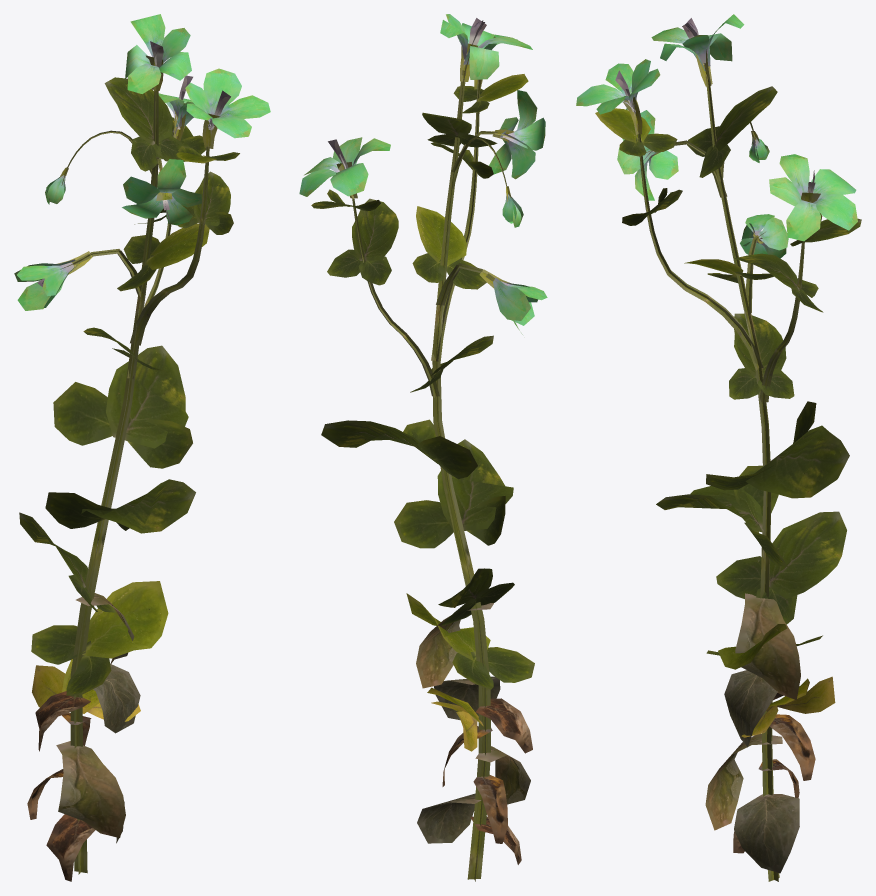
The model's file is Periwinkle_OG_normal_greenyellow.glb.
3 views of the same model, side by side, from view 1: azimuth 30°, elevation 25°; view 2: azimuth 150°, elevation 25°; view 3: azimuth 270°, elevation 25° (orthographic). The views are drawn at different scales.
Parts seen in each view (by area): view 1: _419c_Var3_LOD1; view 2: _419c_Var3_LOD1; view 3: _419c_Var3_LOD1.
Boxes of the visible parts, x1,y1,x2,y2 form: _419c_Var3_LOD1: [14, 14, 270, 881]; _419c_Var3_LOD1: [299, 14, 547, 881]; _419c_Var3_LOD1: [576, 14, 861, 881].
Bounding box in the file's own units: 0.6129 × 2.19 × 0.6394.
1 material, 1 textured.
